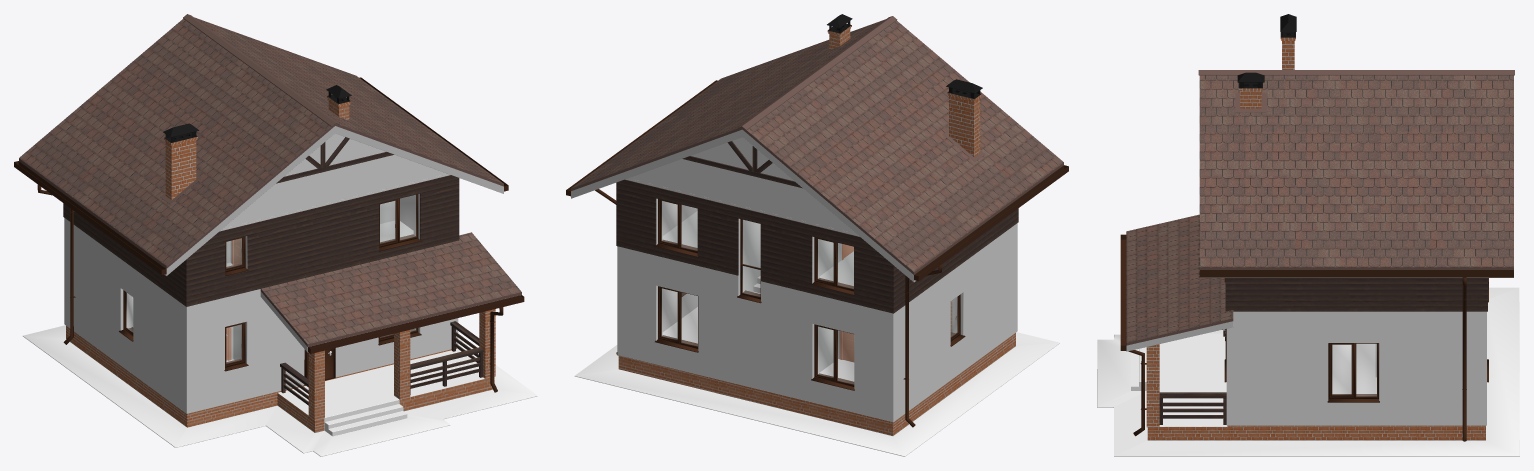
File: CasaCuatro-SegundaPlanta.glb
3 renders of one model, left to right at view 1: azimuth 30°, elevation 25°; view 2: azimuth 150°, elevation 25°; view 3: azimuth 270°, elevation 25°, orthographic. The views are drawn at different scales.
Visible parts, largest first — view 1: Krov, House KolB, 2et, 1et, Cher, okn_dver, Sliv, peril, Vent; view 2: Krov, 1et, 2et, House KolB, okn_dver, Cher, Vent, Sliv; view 3: Krov, House KolB, 1et, 2et, Sliv, okn_dver, Vent, peril.
Boxes of the visible parts, bbox=[...] form: Krov: bbox=[19, 14, 521, 352]; House KolB: bbox=[23, 309, 537, 456]; 2et: bbox=[63, 175, 459, 327]; 1et: bbox=[64, 238, 458, 413]; Cher: bbox=[219, 133, 450, 231]; okn_dver: bbox=[119, 194, 421, 385]; Sliv: bbox=[14, 77, 524, 392]; peril: bbox=[280, 321, 483, 405]; Vent: bbox=[163, 85, 351, 199]; Krov: bbox=[571, 16, 1063, 282]; 1et: bbox=[617, 244, 1017, 422]; 2et: bbox=[616, 179, 1018, 334]; House KolB: bbox=[574, 307, 1059, 456]; okn_dver: bbox=[654, 199, 965, 390]; Cher: bbox=[625, 137, 859, 236]; Vent: bbox=[827, 14, 982, 331]; Sliv: bbox=[566, 80, 1068, 427]; Krov: bbox=[1126, 70, 1514, 351]; House KolB: bbox=[1097, 287, 1519, 456]; 1et: bbox=[1226, 334, 1486, 425]; 2et: bbox=[1225, 278, 1487, 333]; Sliv: bbox=[1120, 234, 1513, 441]; okn_dver: bbox=[1223, 278, 1488, 402]; Vent: bbox=[1237, 14, 1296, 108]; peril: bbox=[1159, 329, 1226, 424].
Size of what is drawn, in the model's own units: 12.64 by 10.28 by 12.52.
12 materials, 3 textured.
